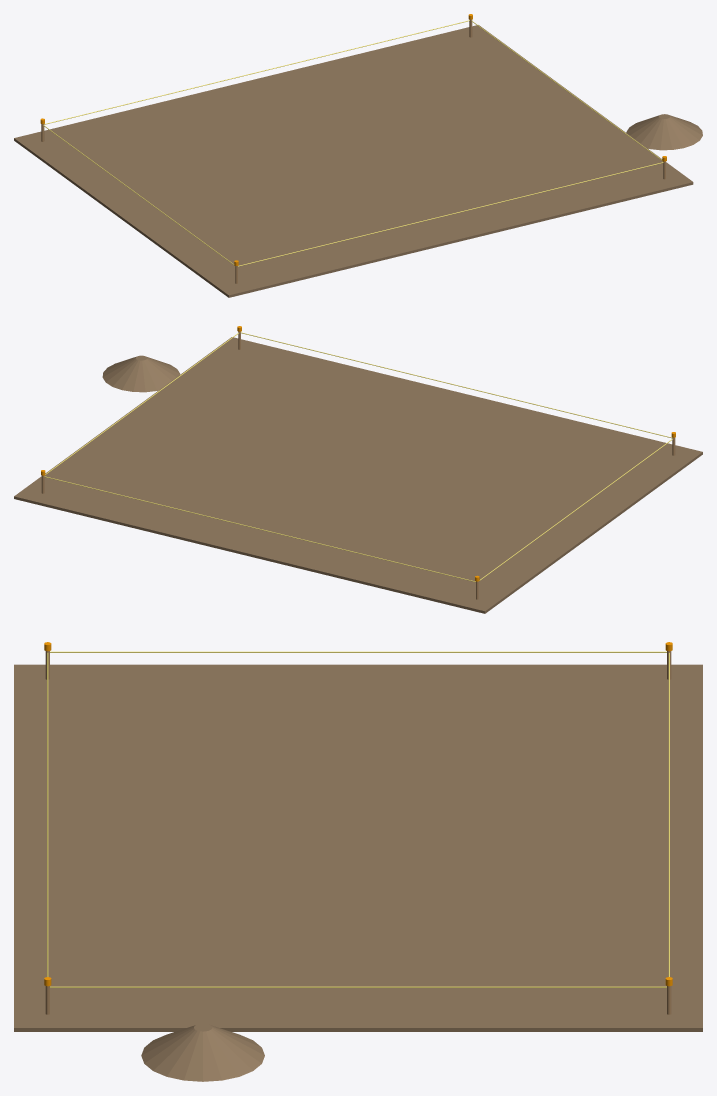
Rendered from Building5Stage0.glb.
The picture shows the model from 3 angles, top to bottom: view 1: azimuth 30°, elevation 25°; view 2: azimuth 150°, elevation 25°; view 3: azimuth 270°, elevation 25°; orthographic projection. The views are drawn at different scales.
Visible parts, largest first — view 1: building5_stage0; view 2: building5_stage0; view 3: building5_stage0.
Boxes of the visible parts, left/top/right/bottom form: building5_stage0: left=14, top=14, right=702, bottom=297; building5_stage0: left=14, top=326, right=702, bottom=613; building5_stage0: left=14, top=642, right=702, bottom=1081.
Size of the model in its own units: 16.5 by 0.7315 by 11.63.
